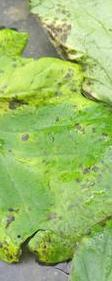Tomato leaf bacterial spot: (0, 31, 112, 263)
